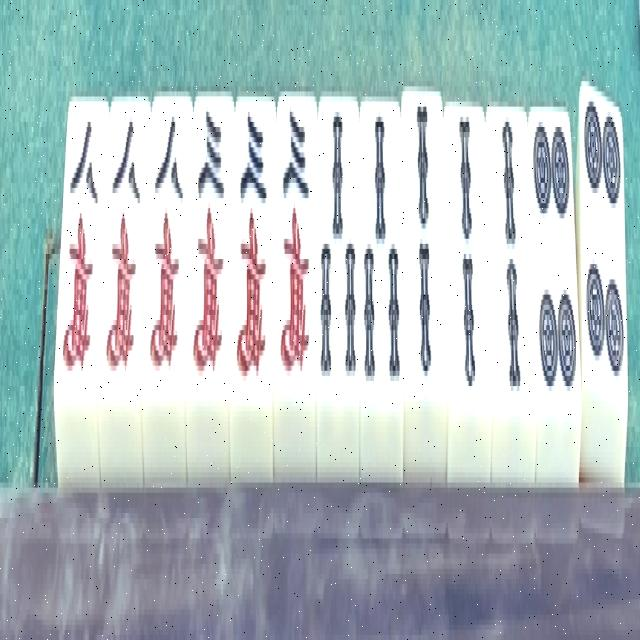bamboos_2: (485, 96, 536, 412), (443, 101, 493, 422), (402, 86, 446, 412)
bamboos_3: (316, 81, 362, 402), (359, 86, 402, 406)
characters_3: (186, 86, 233, 386), (273, 91, 317, 406), (229, 97, 276, 391)
characters_8: (54, 91, 107, 402), (97, 92, 152, 391), (142, 86, 191, 396)
circles_4: (528, 96, 582, 416), (580, 76, 629, 401)
